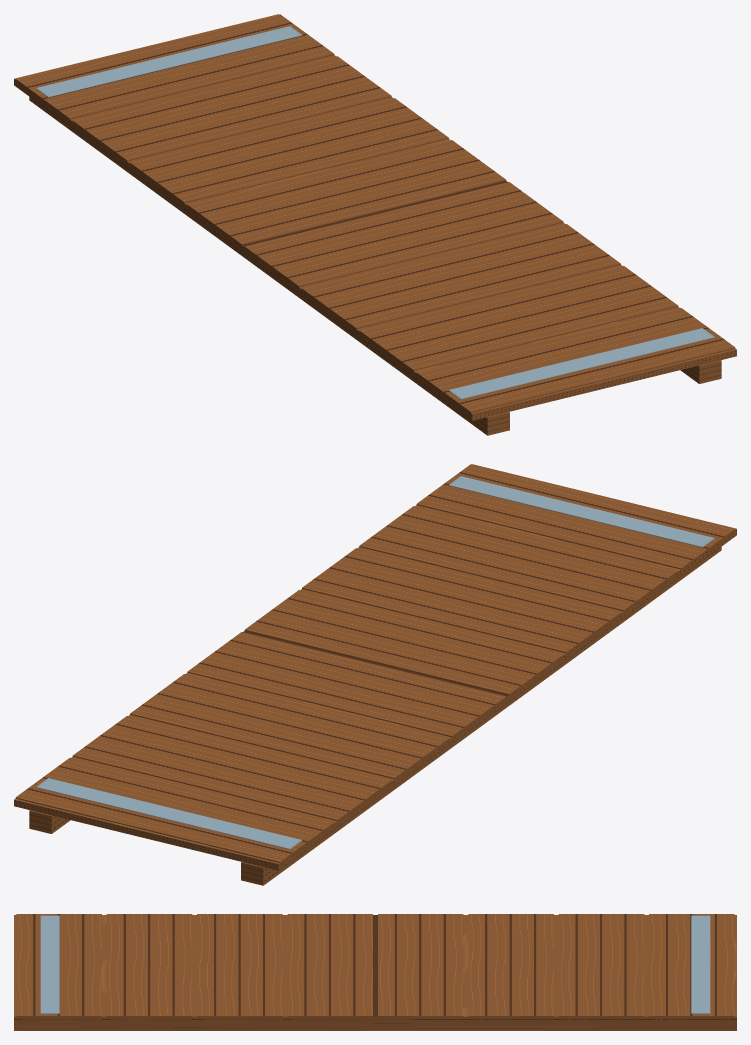
The model's file is bridge-timber-1x3.glb.
3 views of the same model, one above another, from view 1: azimuth 30°, elevation 25°; view 2: azimuth 150°, elevation 25°; view 3: azimuth 270°, elevation 25° (orthographic). The views are drawn at different scales.
Parts seen in each view (by area): view 1: bridge-timber-1x3; view 2: bridge-timber-1x3; view 3: bridge-timber-1x3.
Part boxes in pixels (x1,y1,x2,y2): bridge-timber-1x3: (14,14,736,435); bridge-timber-1x3: (14,464,736,885); bridge-timber-1x3: (14,914,736,1030).
Size of the model in its own units: 1 by 0.0975 by 3.
Materials: 1 (1 with a texture image).
